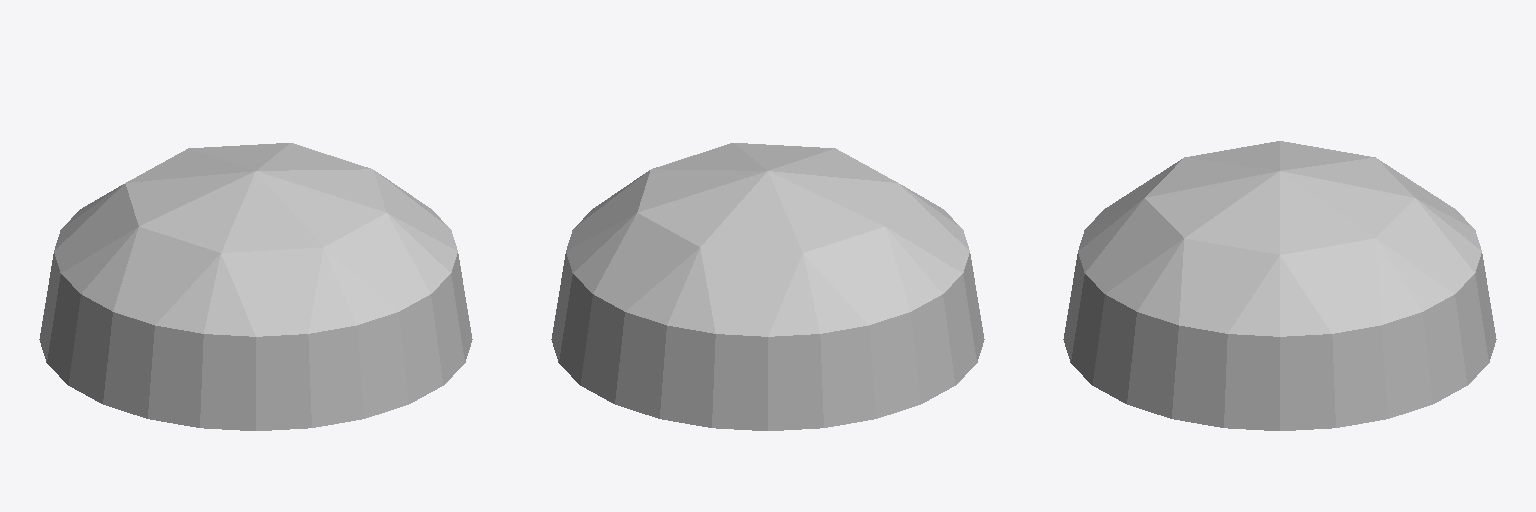
File: Seaside hill 10.obj
3 views of the same model, side by side, from view 1: azimuth 30°, elevation 25°; view 2: azimuth 150°, elevation 25°; view 3: azimuth 270°, elevation 25° (orthographic).
Visible parts, largest first — view 1: obj2; view 2: obj2; view 3: obj2.
Boxes of the visible parts, box(x1,y1,x2,y2) form: obj2: box(39, 143, 472, 430); obj2: box(551, 143, 984, 430); obj2: box(1063, 141, 1496, 430).
Size of the model in its own units: 126000 by 54589 by 126000.